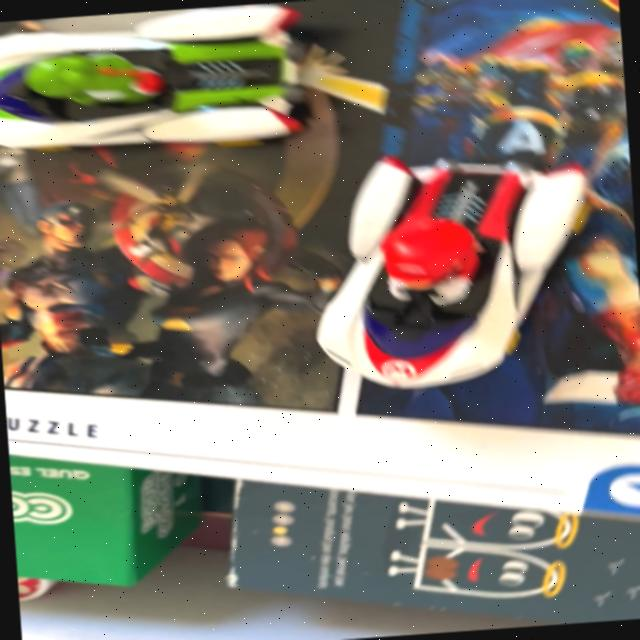mario: (276, 131, 616, 416)
yoshi: (0, 0, 416, 176)
